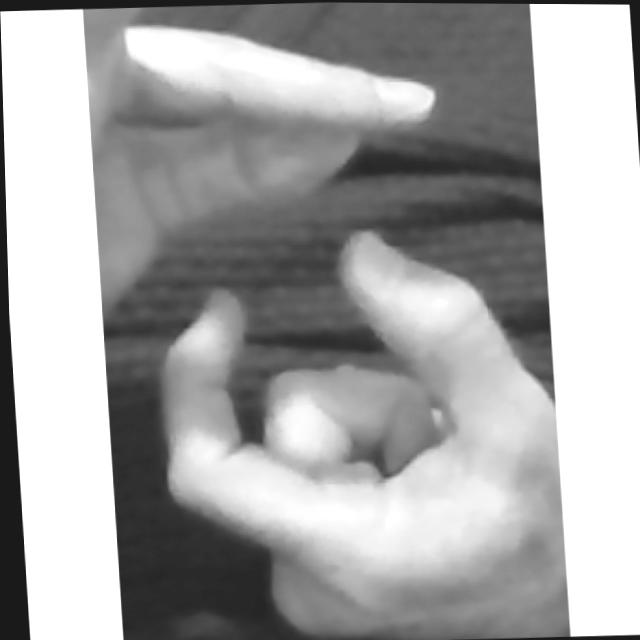U--: (82, 1, 569, 640)
